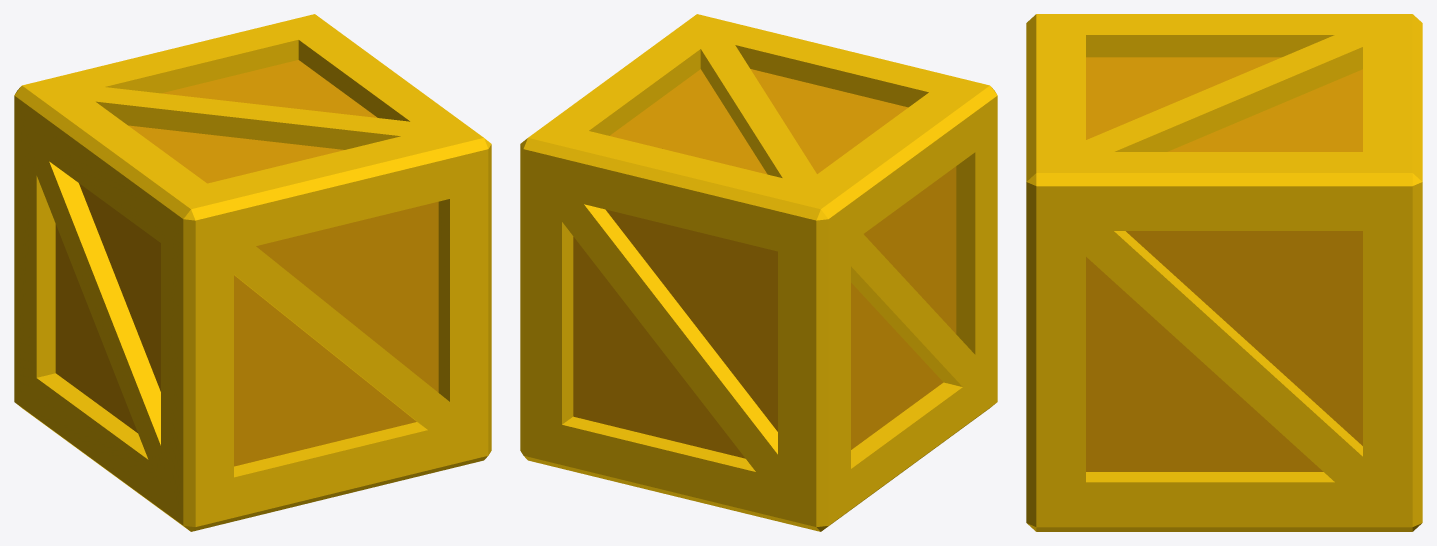
Rendered from crate.obj.
The picture shows the model from 3 angles, left to right: view 1: azimuth 30°, elevation 25°; view 2: azimuth 150°, elevation 25°; view 3: azimuth 270°, elevation 25°; orthographic projection. The views are drawn at different scales.
Parts seen in each view (by area): view 1: HJD_FP_Asset; view 2: HJD_FP_Asset; view 3: HJD_FP_Asset.
Boxes of the visible parts, x1,y1,x2,y2 form: HJD_FP_Asset: (14, 14, 491, 531); HJD_FP_Asset: (520, 14, 997, 531); HJD_FP_Asset: (1026, 14, 1422, 531).
Size of the model in its own units: 8 by 8 by 8.
1 material, 1 textured.
